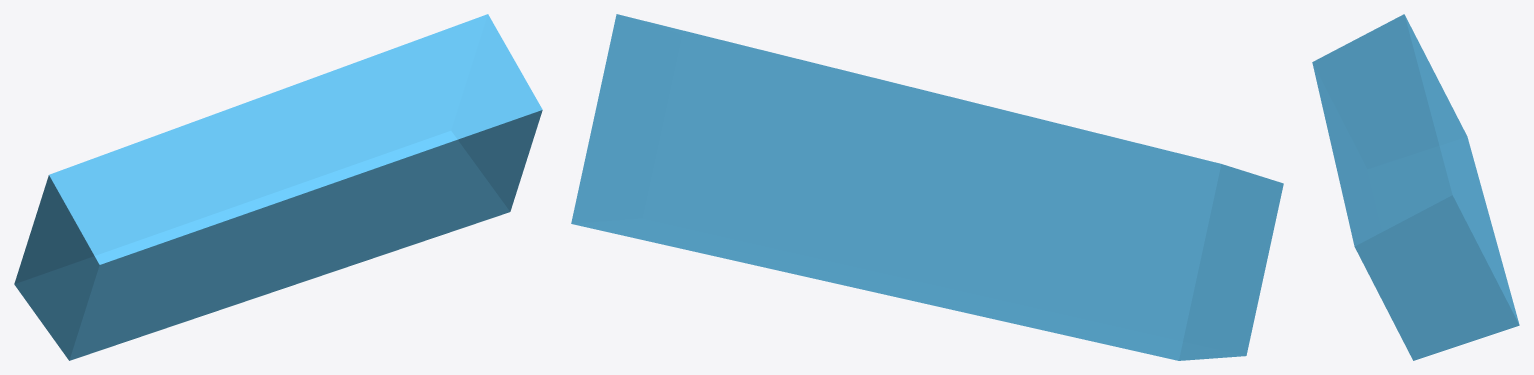
File: Event_421364160_HErechit_30.fbx
3 views of the same model, side by side, from view 1: azimuth 30°, elevation 25°; view 2: azimuth 150°, elevation 25°; view 3: azimuth 270°, elevation 25° (orthographic). The views are drawn at different scales.
Visible parts, largest first — view 1: Model; view 2: Model; view 3: Model.
Part boxes in pixels (<box>): Model: <box>14,14,542,360</box>; Model: <box>571,14,1283,360</box>; Model: <box>1312,14,1519,360</box>.
Size of the model in its own units: 0.6625 by 0.2702 by 0.2811.
